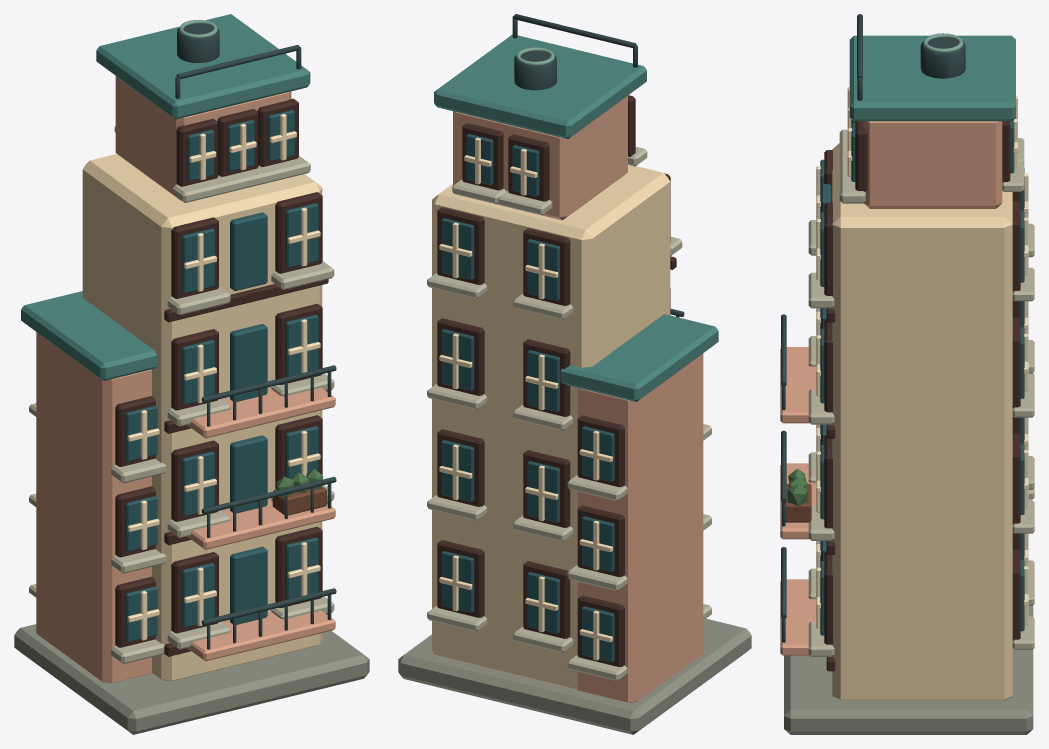
The model's file is tower.glb.
3 renders of one model, left to right at view 1: azimuth 30°, elevation 25°; view 2: azimuth 150°, elevation 25°; view 3: azimuth 270°, elevation 25°, orthographic. The views are drawn at different scales.
Visible parts, largest first — view 1: tower · plaster_rose, tower · plaster, tower · window, tower · wood, tower · copper, tower · stone, tower · stone_light, tower · plaster_light, tower · metal, tower · wood_light, tower · leaf; view 2: tower · plaster, tower · plaster_rose, tower · wood, tower · copper, tower · window, tower · stone, tower · stone_light, tower · plaster_light, tower · metal; view 3: tower · plaster, tower · plaster_rose, tower · copper, tower · stone, tower · wood, tower · stone_light, tower · window, tower · plaster_light, tower · metal, tower · wood_light, tower · leaf.
Part boxes in pixels (left/top/right/bottom): tower · plaster_rose: left=36, top=76, right=335, bottom=683; tower · plaster: left=82, top=154, right=322, bottom=681; tower · window: left=125, top=110, right=318, bottom=642; tower · wood: left=115, top=98, right=328, bottom=656; tower · copper: left=21, top=14, right=310, bottom=380; tower · stone: left=14, top=624, right=369, bottom=734; tower · stone_light: left=29, top=126, right=334, bottom=663; tower · plaster_light: left=127, top=113, right=320, bottom=640; tower · metal: left=175, top=23, right=336, bottom=649; tower · wood_light: left=272, top=486, right=326, bottom=515; tower · leaf: left=276, top=469, right=322, bottom=496; tower · plaster: left=432, top=165, right=670, bottom=689; tower · plaster_rose: left=453, top=95, right=703, bottom=702; tower · wood: left=437, top=95, right=676, bottom=666; tower · copper: left=434, top=34, right=718, bottom=401; tower · window: left=441, top=134, right=614, bottom=661; tower · stone: left=398, top=618, right=751, bottom=734; tower · stone_light: left=427, top=146, right=711, bottom=680; tower · plaster_light: left=439, top=137, right=612, bottom=660; tower · metal: left=512, top=14, right=684, bottom=317; tower · plaster: left=832, top=143, right=1012, bottom=700; tower · plaster_rose: left=780, top=121, right=1002, bottom=655; tower · copper: left=849, top=35, right=1015, bottom=121; tower · stone: left=784, top=605, right=1033, bottom=734; tower · wood: left=824, top=121, right=1020, bottom=671; tower · stone_light: left=808, top=129, right=1034, bottom=656; tower · window: left=820, top=119, right=1024, bottom=635; tower · plaster_light: left=816, top=87, right=1028, bottom=628; tower · metal: left=781, top=14, right=965, bottom=642; tower · wood_light: left=785, top=483, right=811, bottom=522; tower · leaf: left=787, top=468, right=808, bottom=506.
Bounding box in the file's own units: 0.84 × 2.06 × 0.7335.
